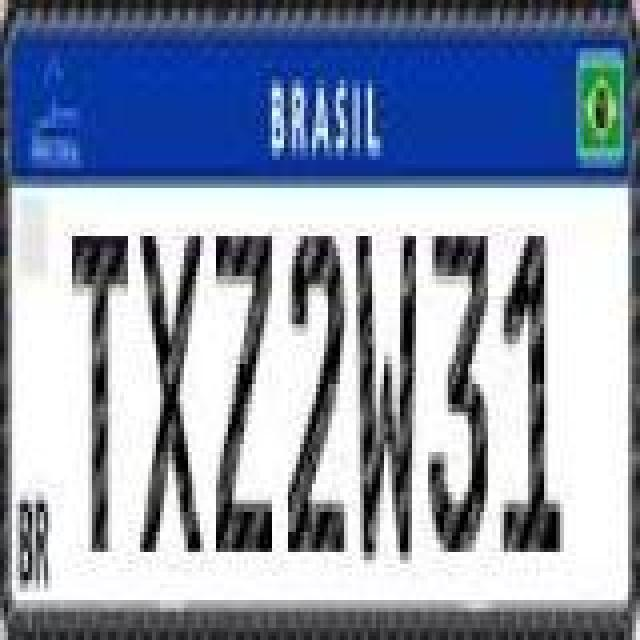1: (500, 230, 564, 554)
2: (282, 230, 350, 554)
3: (424, 224, 488, 560)
T: (70, 232, 130, 568)
W: (352, 232, 416, 568)
X: (140, 224, 204, 560)
Z: (214, 230, 274, 554)
